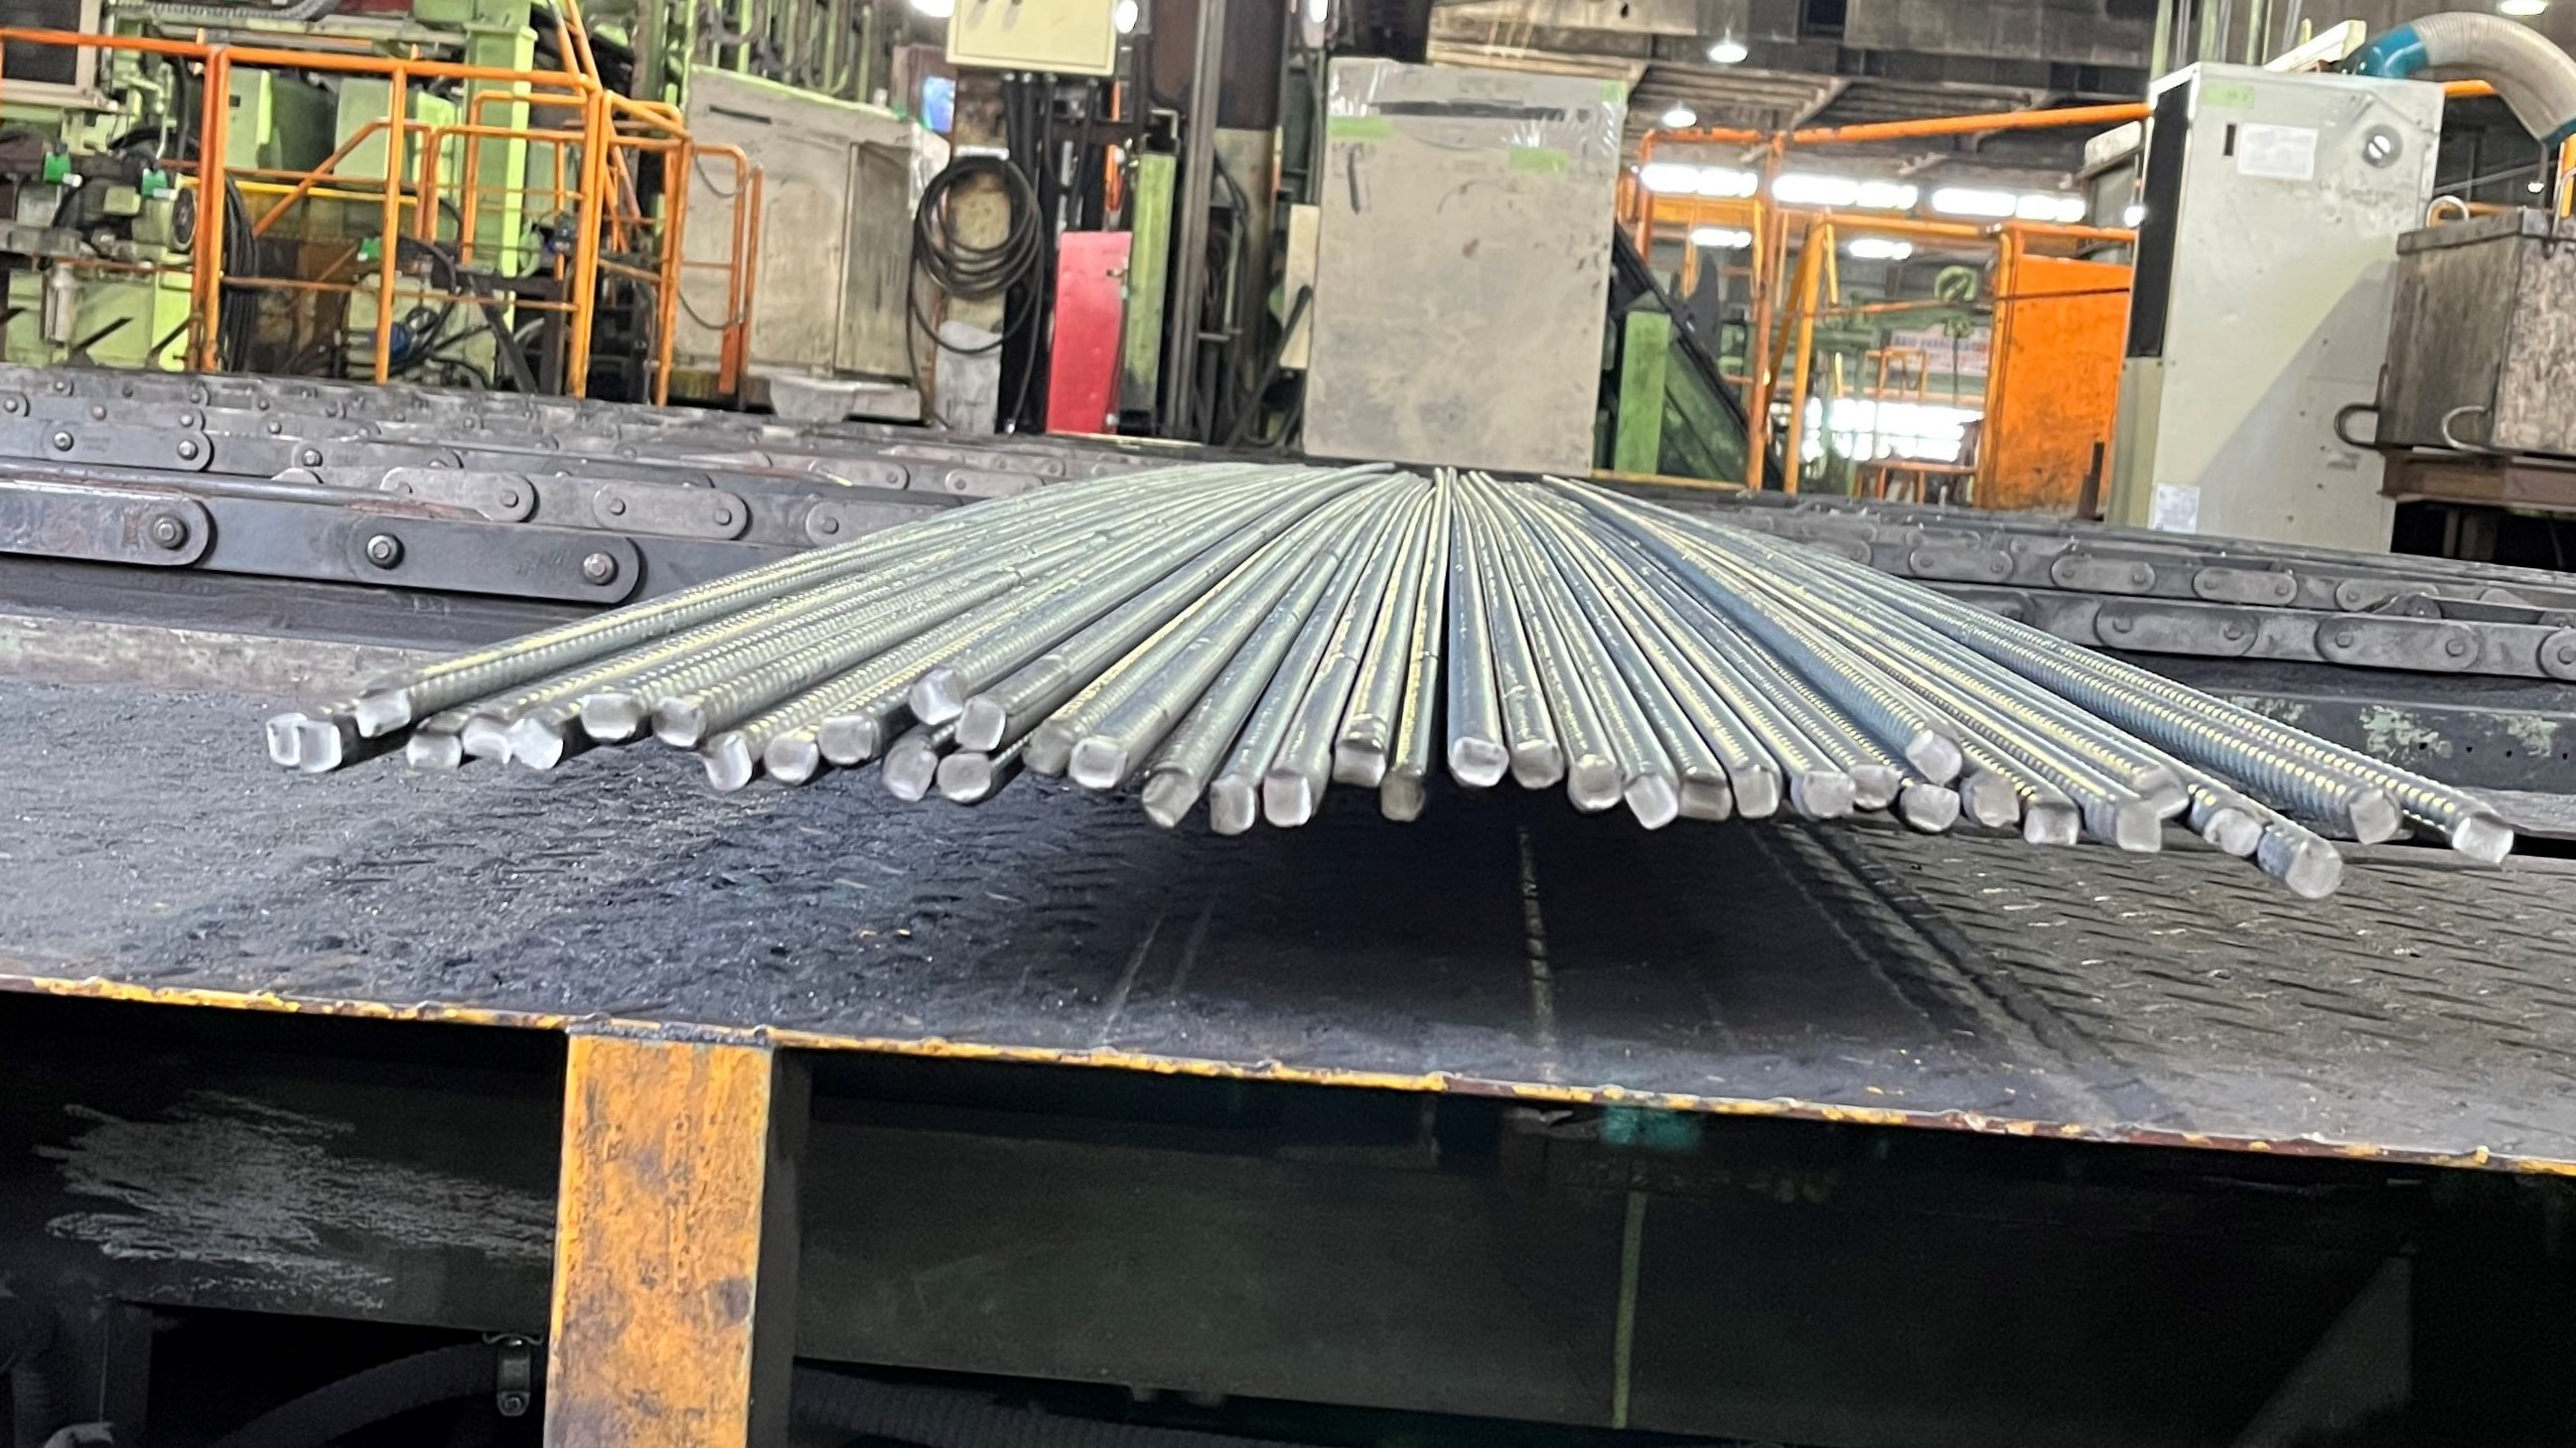rod: (1138, 766, 1203, 830), (904, 666, 966, 728), (2288, 836, 2346, 901), (1619, 770, 1683, 828), (1063, 735, 1129, 791), (1904, 728, 1964, 788), (1964, 768, 2022, 830), (702, 729, 757, 793), (1445, 736, 1511, 789), (1019, 717, 1076, 777), (816, 713, 879, 766), (1897, 782, 1962, 834), (879, 747, 938, 804), (1566, 752, 1622, 811), (511, 715, 566, 775), (1789, 770, 1852, 821), (649, 696, 708, 751), (1208, 774, 1258, 837), (954, 697, 1008, 754), (2137, 761, 2190, 820), (763, 735, 823, 786), (579, 692, 640, 742), (1265, 766, 1315, 828), (2201, 804, 2265, 851), (1730, 765, 1785, 820), (294, 719, 347, 775), (460, 712, 513, 768), (936, 751, 993, 804), (1330, 735, 1387, 788), (1679, 768, 1736, 821), (2022, 800, 2086, 846), (1511, 738, 1566, 791), (352, 689, 410, 738), (1380, 766, 1428, 827), (403, 726, 464, 772), (2112, 800, 2164, 853), (1849, 761, 1900, 809), (265, 710, 306, 765)
